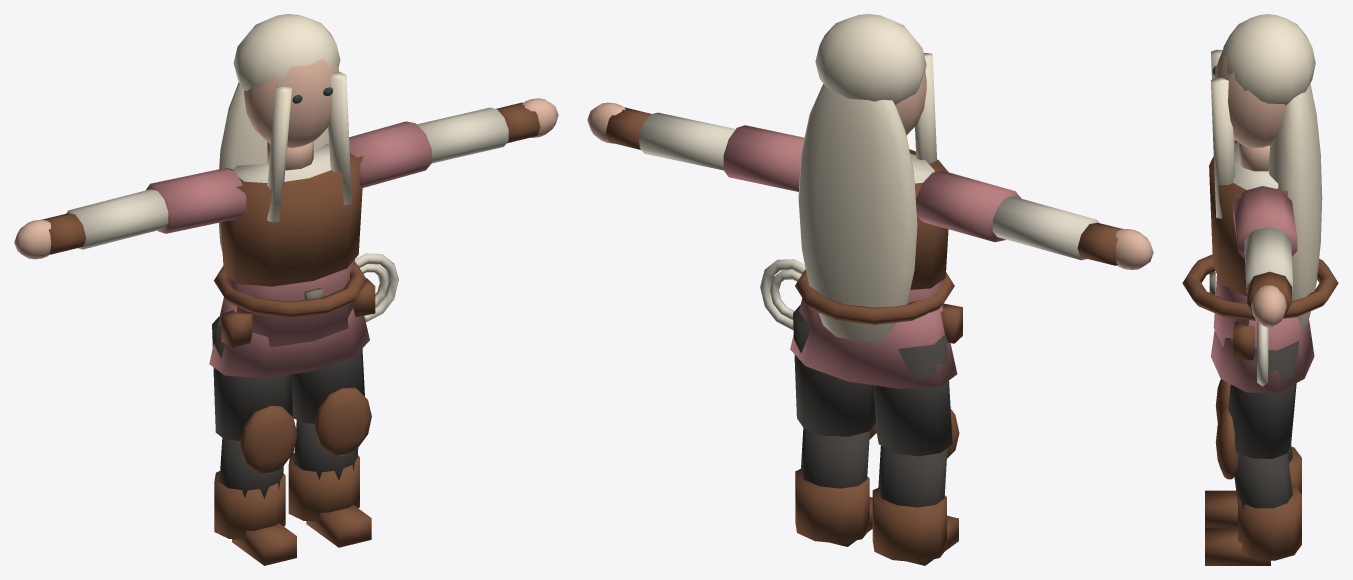
The model's file is SM_W02_Climber_MaterialPalette.fbx.
The picture shows the model from 3 angles, left to right: view 1: azimuth 30°, elevation 25°; view 2: azimuth 150°, elevation 25°; view 3: azimuth 270°, elevation 25°; orthographic projection. The views are drawn at different scales.
Visible parts, largest first — view 1: SM_W02_Climber_MaterialPalette; view 2: SM_W02_Climber_MaterialPalette; view 3: SM_W02_Climber_MaterialPalette.
Part boxes in pixels (x1,y1,x2,y2): SM_W02_Climber_MaterialPalette: (14, 14, 558, 565); SM_W02_Climber_MaterialPalette: (587, 14, 1153, 565); SM_W02_Climber_MaterialPalette: (1182, 14, 1338, 565).
Size of the model in its own units: 2.97 by 0.734 by 2.69.
